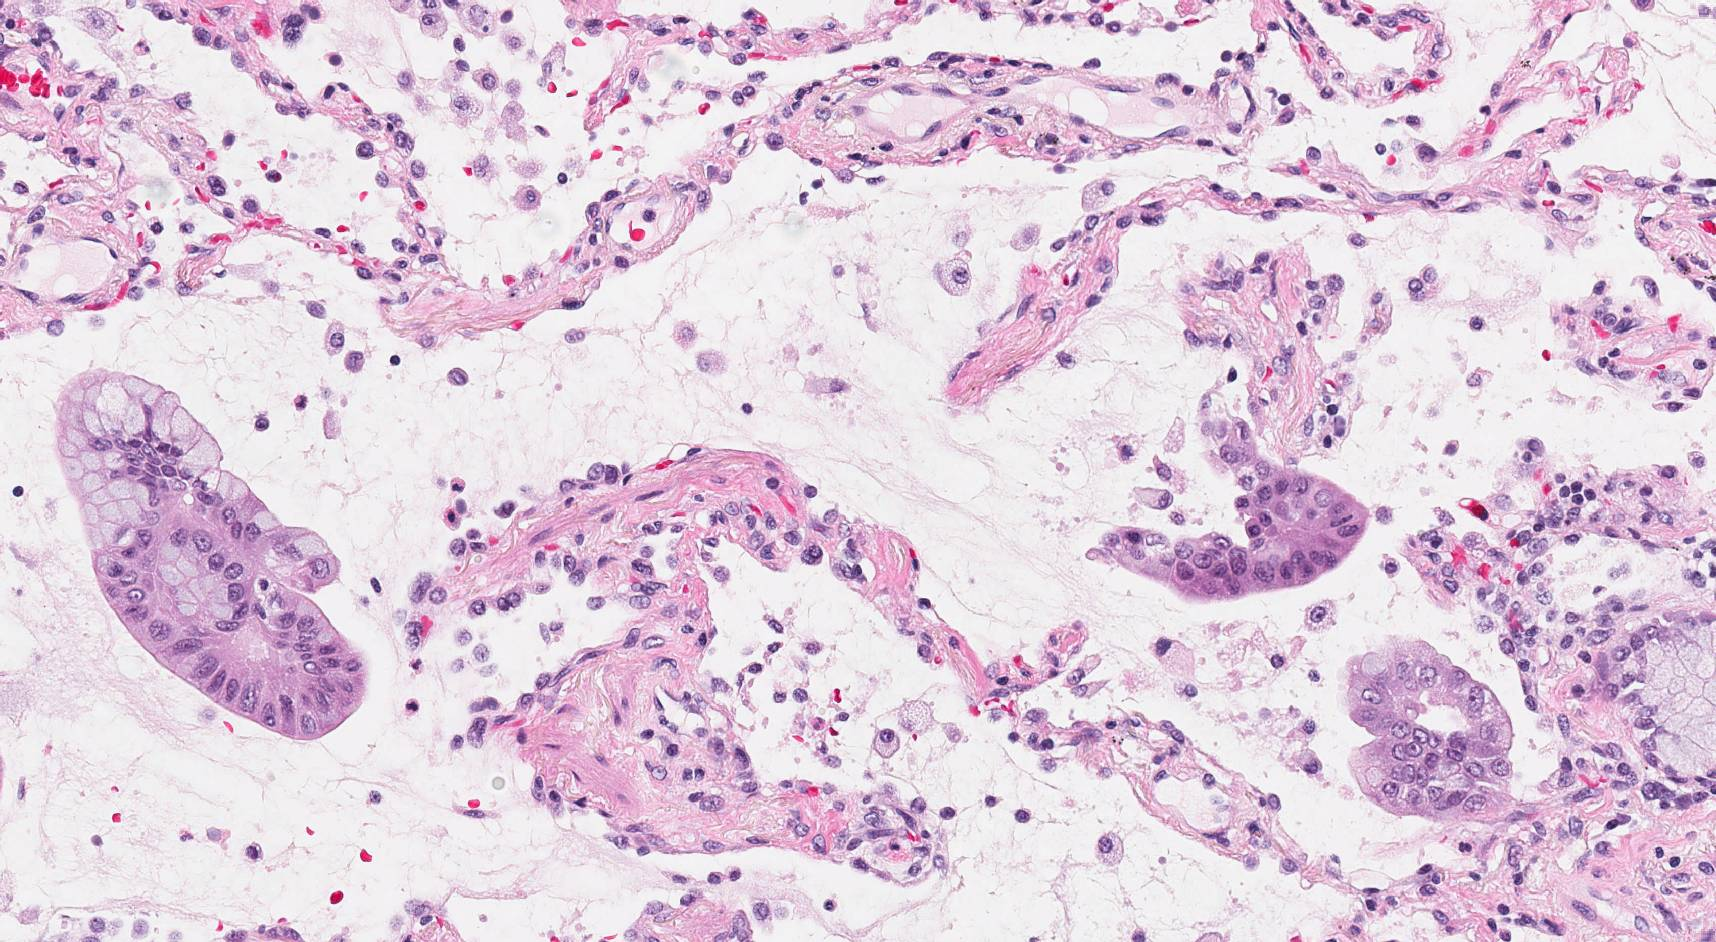stas: (53, 368, 366, 743), (1093, 392, 1373, 601), (1346, 633, 1518, 824)
